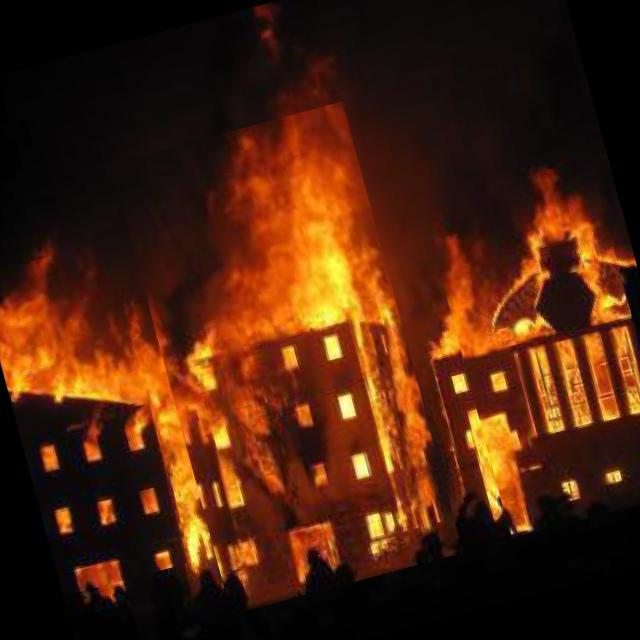fire: (110, 101, 463, 614), (421, 158, 640, 538), (0, 241, 191, 596)
